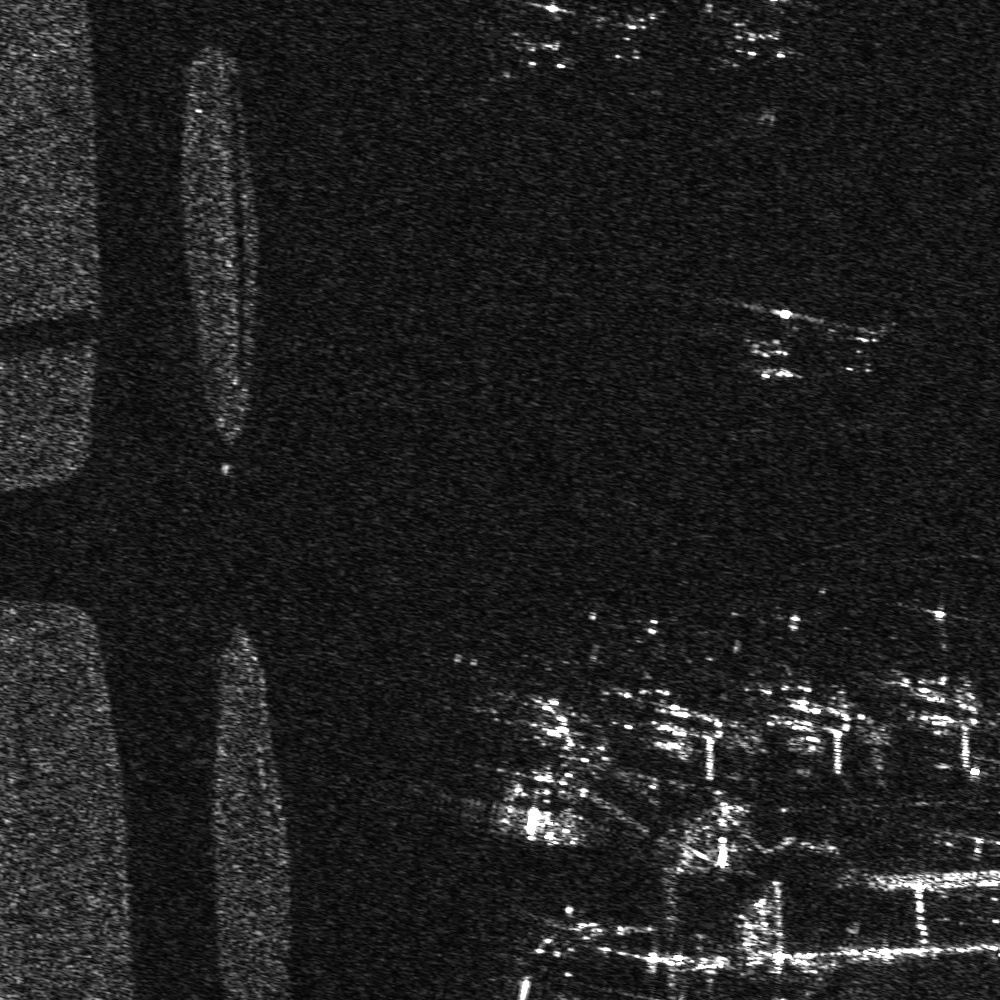A220: (828, 315, 893, 376)
other: (716, 295, 826, 388)
